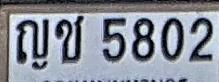0: (160, 17, 184, 61)
2: (189, 17, 213, 61)
5: (102, 17, 126, 62)
8: (132, 17, 154, 61)
A10: (55, 15, 84, 63)
A13: (16, 18, 49, 64)
